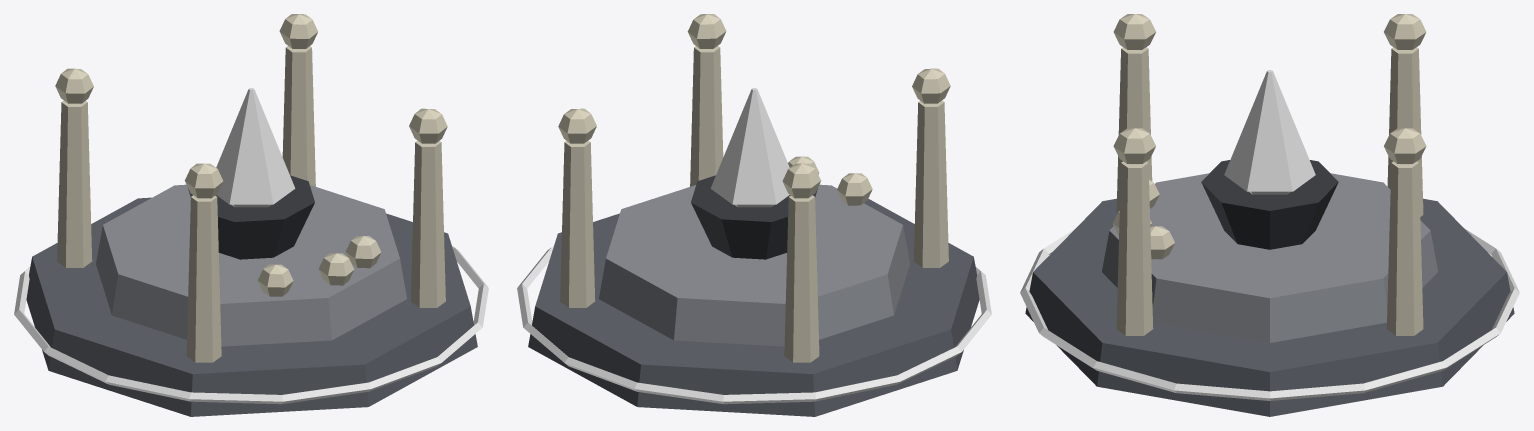
Rendered from hive.fbx.
3 views of the same model, side by side, from view 1: azimuth 30°, elevation 25°; view 2: azimuth 150°, elevation 25°; view 3: azimuth 270°, elevation 25° (orthographic). The views are drawn at different scales.
Parts seen in each view (by area): view 1: hive; view 2: hive; view 3: hive.
Part boxes in pixels (x1,y1,x2,y2): hive: [14, 14, 488, 416]; hive: [517, 14, 991, 416]; hive: [1020, 14, 1519, 416].
Size of the model in its own units: 3.27 by 1.75 by 3.27.
2 materials, 1 textured.
